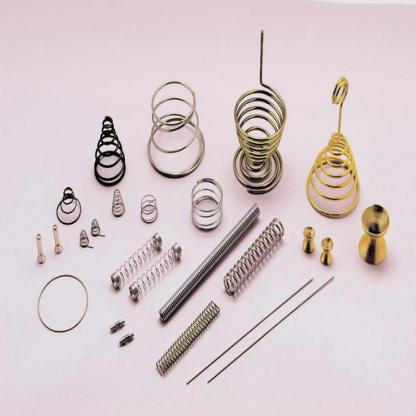FOD: (155, 198, 263, 324), (304, 75, 363, 222), (145, 77, 206, 180), (154, 297, 222, 379), (221, 215, 286, 296), (127, 240, 183, 302), (109, 230, 163, 290), (92, 113, 127, 187), (189, 176, 225, 231), (55, 184, 82, 227), (139, 194, 159, 225), (110, 187, 126, 219), (34, 232, 46, 266), (79, 227, 95, 251), (90, 216, 106, 240), (52, 223, 63, 254)
